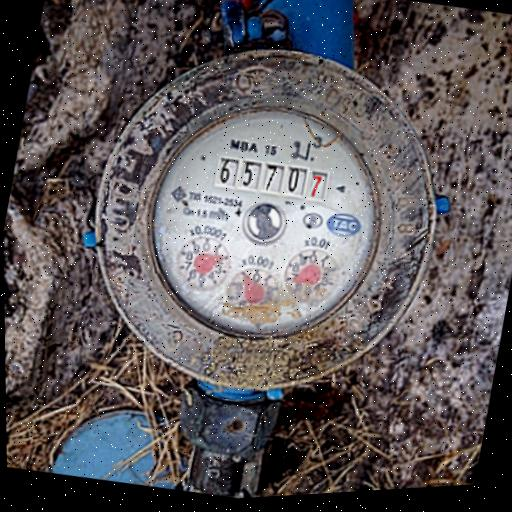0: (285, 167, 308, 196)
5: (240, 162, 263, 190)
6: (217, 159, 239, 187)
7: (308, 171, 328, 198), (263, 163, 282, 190)
border_water_meter_number: (207, 145, 336, 212)
